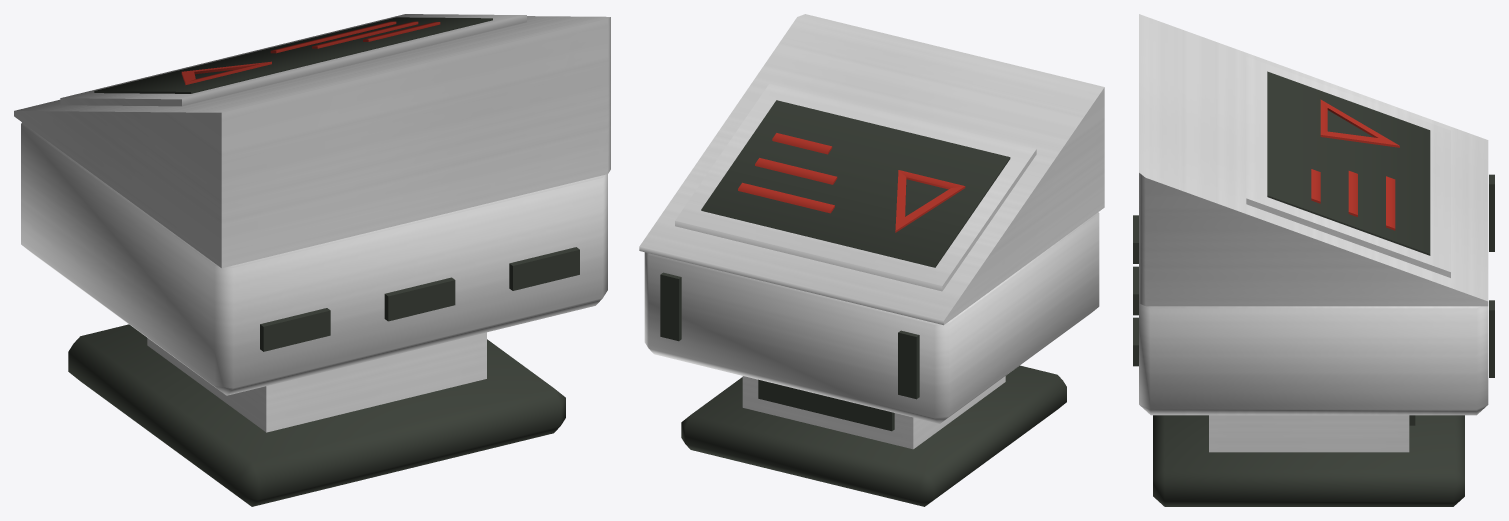
File: enemy_terminal.obj
3 renders of one model, left to right at view 1: azimuth 30°, elevation 25°; view 2: azimuth 150°, elevation 25°; view 3: azimuth 270°, elevation 25°, orthographic. The views are drawn at different scales.
Parts seen in each view (by area): view 1: source_component_004, source_component_003, source_component_000, source_component_001, source_component_006, source_component_005, source_component_014, source_component_015, source_component_013; view 2: source_component_004, source_component_003, source_component_006, source_component_000, source_component_005, source_component_001, source_component_002, source_component_017, source_component_016, source_component_007, source_component_008, source_component_012 (+1 smaller); view 3: source_component_004, source_component_003, source_component_000, source_component_006, source_component_005, source_component_001, source_component_007, source_component_011, source_component_016, source_component_017, source_component_012, source_component_008.
Boxes of the visible parts, bbox=[...] form: source_component_004: bbox=[14, 16, 610, 268]; source_component_003: bbox=[21, 122, 607, 395]; source_component_000: bbox=[68, 324, 565, 506]; source_component_001: bbox=[147, 332, 486, 432]; source_component_006: bbox=[94, 17, 492, 93]; source_component_005: bbox=[60, 14, 526, 106]; source_component_014: bbox=[384, 277, 455, 321]; source_component_015: bbox=[509, 247, 579, 290]; source_component_013: bbox=[260, 308, 330, 351]; source_component_004: bbox=[639, 14, 1104, 325]; source_component_003: bbox=[644, 212, 1099, 423]; source_component_006: bbox=[701, 100, 1010, 267]; source_component_000: bbox=[681, 365, 1066, 506]; source_component_005: bbox=[675, 83, 1036, 291]; source_component_001: bbox=[742, 376, 1005, 449]; source_component_002: bbox=[758, 379, 894, 431]; source_component_017: bbox=[660, 272, 681, 341]; source_component_016: bbox=[898, 330, 919, 399]; source_component_007: bbox=[738, 182, 834, 213]; source_component_008: bbox=[755, 158, 837, 184]; source_component_012: bbox=[895, 186, 965, 232]; source_component_004: bbox=[1139, 14, 1488, 306]; source_component_003: bbox=[1139, 303, 1488, 415]; source_component_000: bbox=[1153, 415, 1464, 506]; source_component_006: bbox=[1267, 71, 1430, 255]; source_component_005: bbox=[1246, 57, 1450, 277]; source_component_001: bbox=[1209, 415, 1409, 452]; source_component_007: bbox=[1386, 176, 1395, 230]; source_component_011: bbox=[1320, 131, 1399, 147]; source_component_016: bbox=[1489, 174, 1494, 251]; source_component_017: bbox=[1489, 300, 1494, 377]; source_component_012: bbox=[1321, 100, 1398, 145]; source_component_008: bbox=[1348, 171, 1357, 216].
Bounding box in the file's own units: 0.82 × 0.83 × 0.777.
